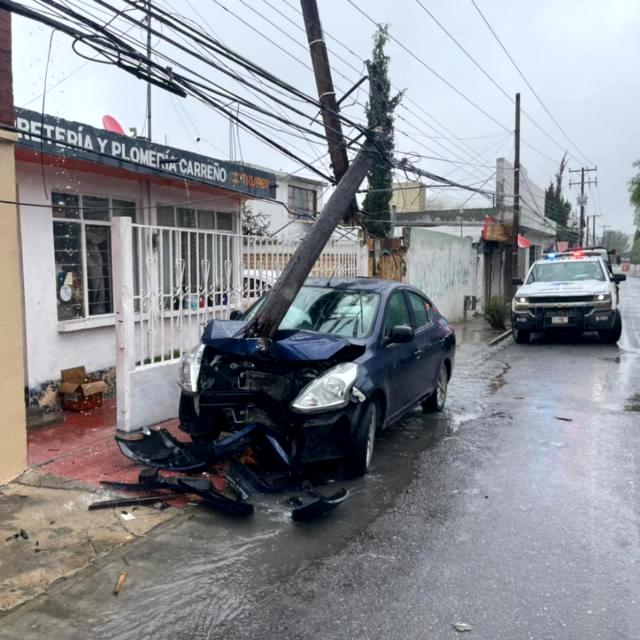Broken Pole: (243, 0, 391, 334)
